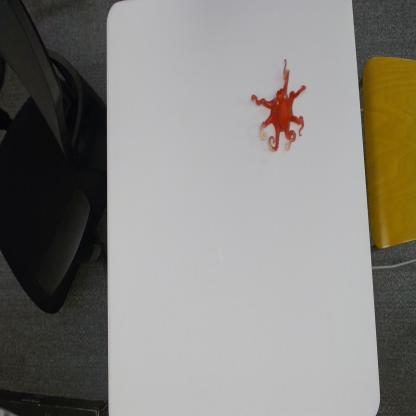Octopus: (251, 56, 306, 154)
